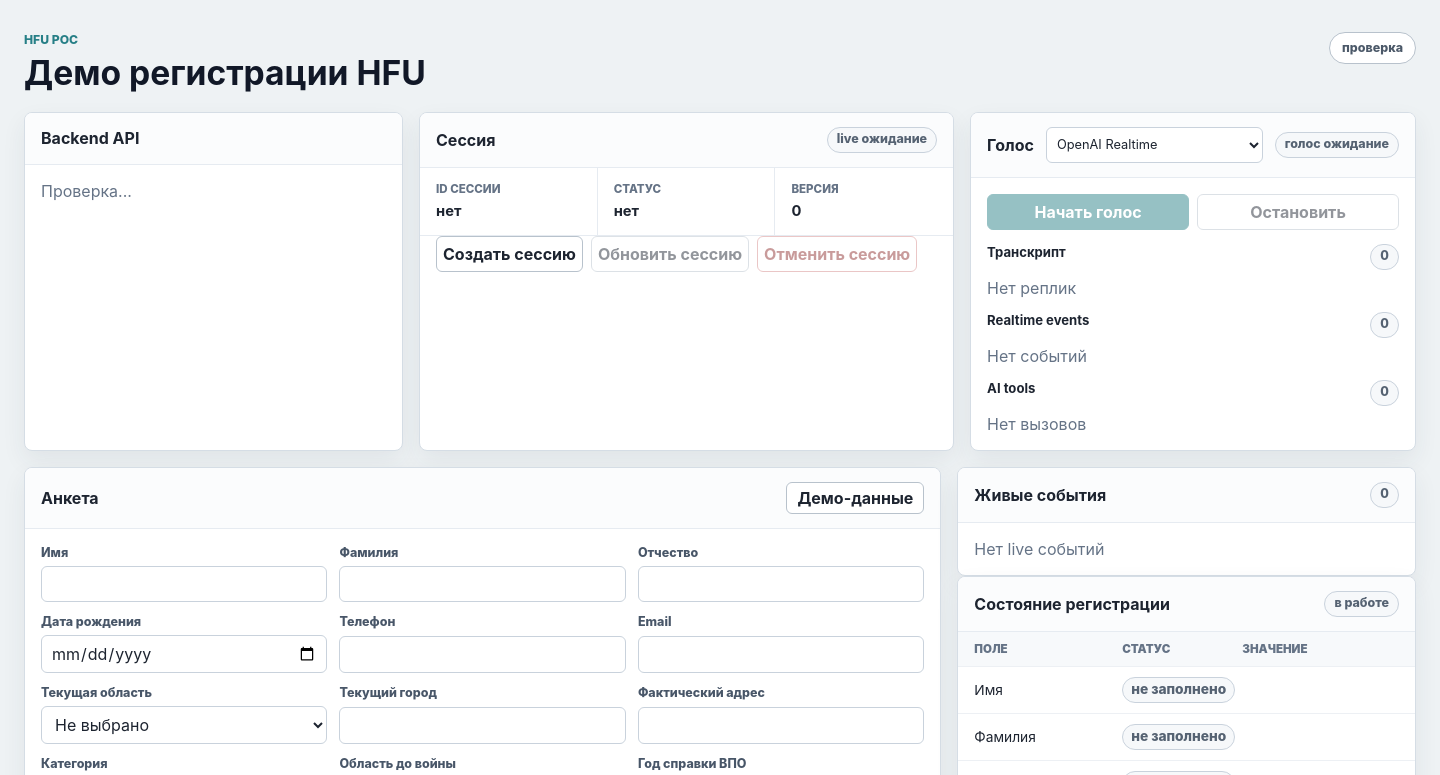
it: App › starts voice for the current session
This screenshot has width=1440, height=775.
Step 1. Click the button "Создать сессию" → (509, 254), box [436,236,583,272]
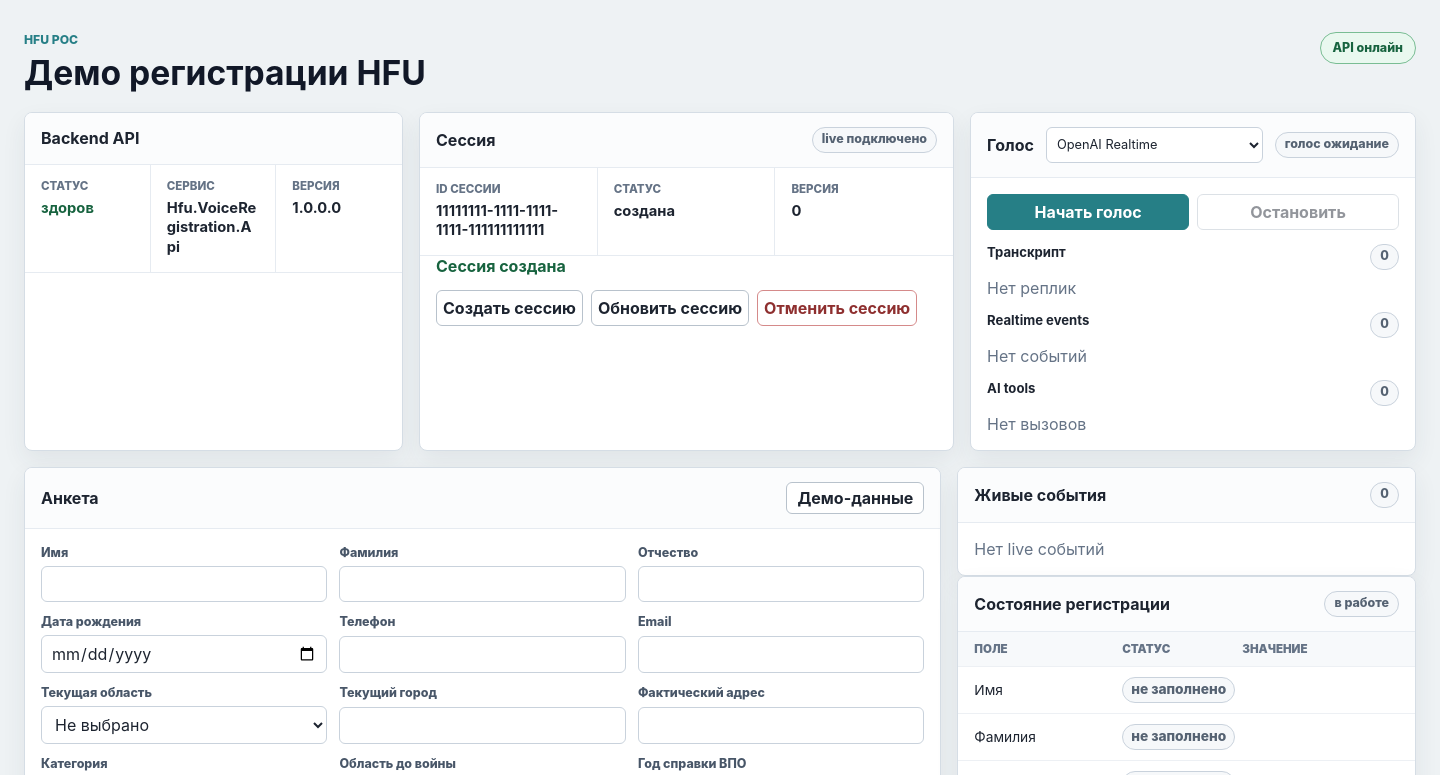
expect the text "11111111-1111-1111-1111-111111111111" is shown: met, box [436,202,558,240]
Step 2. Click the button "Начать голос" → (1088, 212), box [987,194,1189,230]
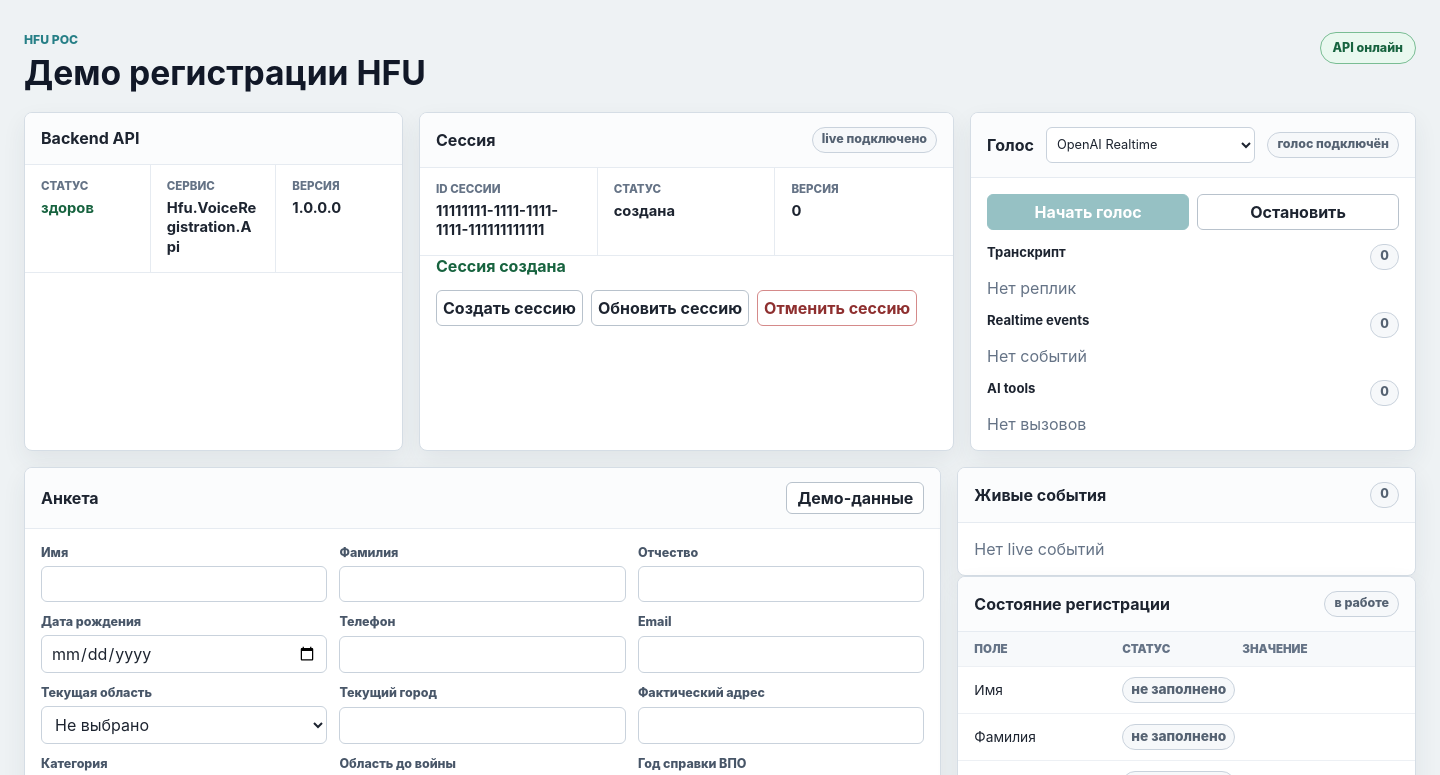
expect the text "голос подключён" is shown: met, box [1267,132,1399,158]
